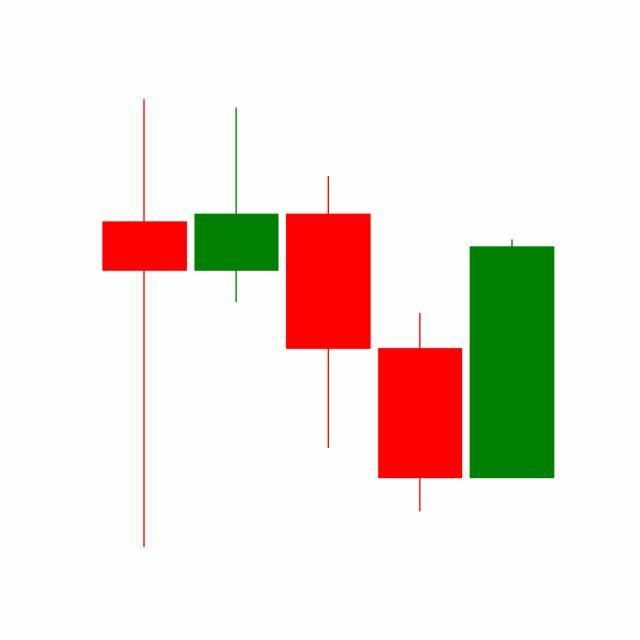Marubozu: (466, 237, 559, 481)
